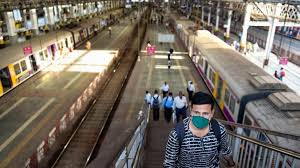mask: (191, 96, 215, 133), (166, 91, 173, 102), (177, 89, 183, 99)
